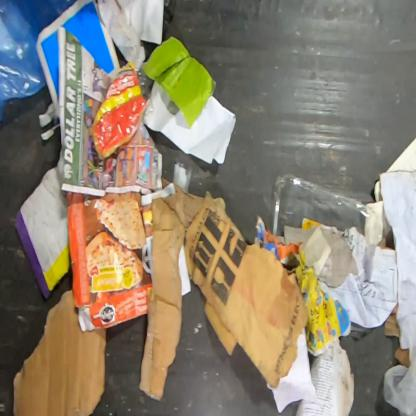cardboard: (138, 184, 206, 402), (11, 289, 108, 415), (67, 191, 152, 331), (13, 166, 70, 302), (203, 298, 238, 356), (384, 301, 401, 339), (394, 344, 410, 368)
rigid_plastic: (271, 172, 384, 246)
soft_plastic: (0, 0, 79, 124), (89, 55, 154, 161), (382, 346, 415, 415)
